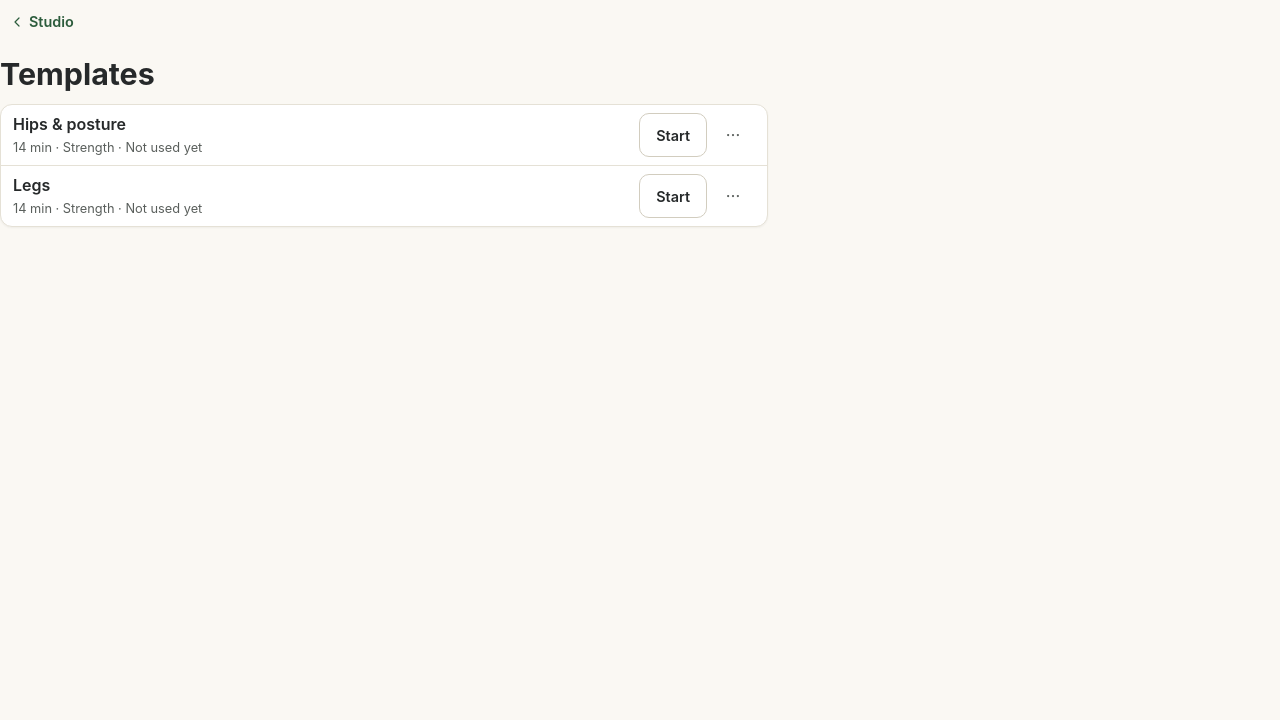
Rename, Pin and Delete › Delete asks first; Cancel keeps it; Delete deletes it, and focus stays on the page
Click the button named "Hips & posture: more": (733, 136) x1=711 y1=114 x2=755 y2=158
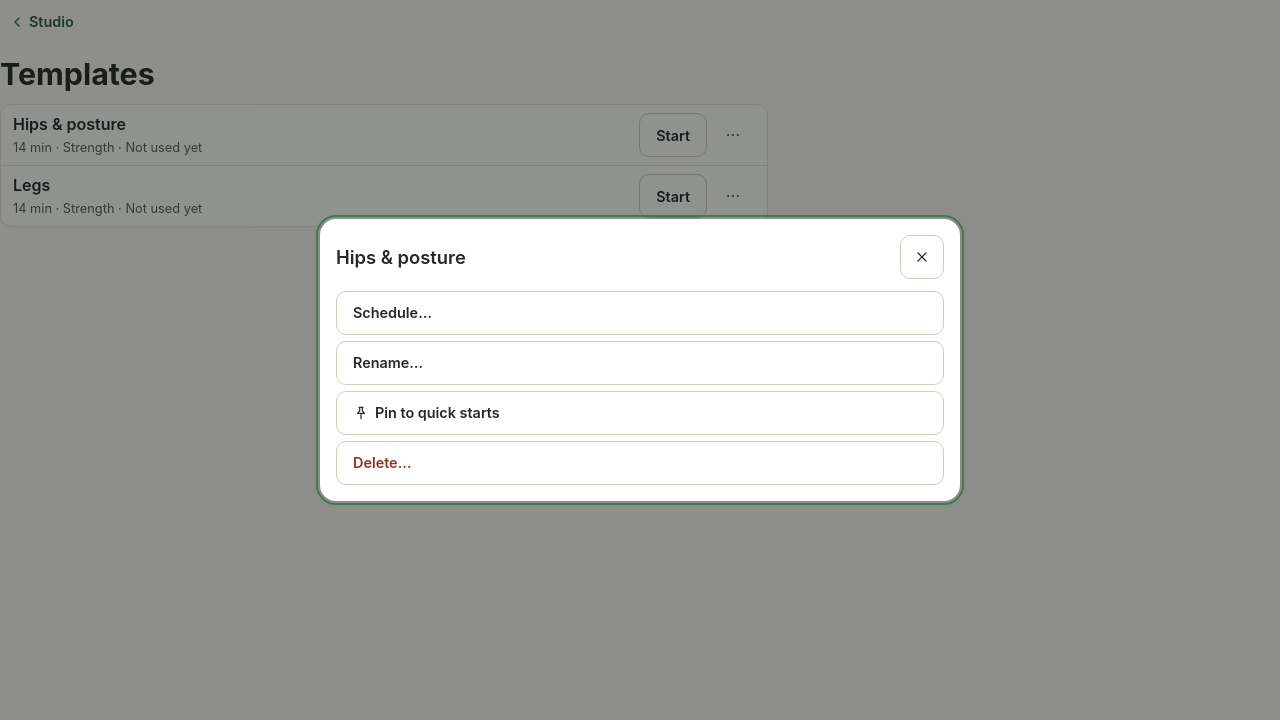
Click the button "Delete…": (382, 463) x1=336 y1=441 x2=944 y2=485
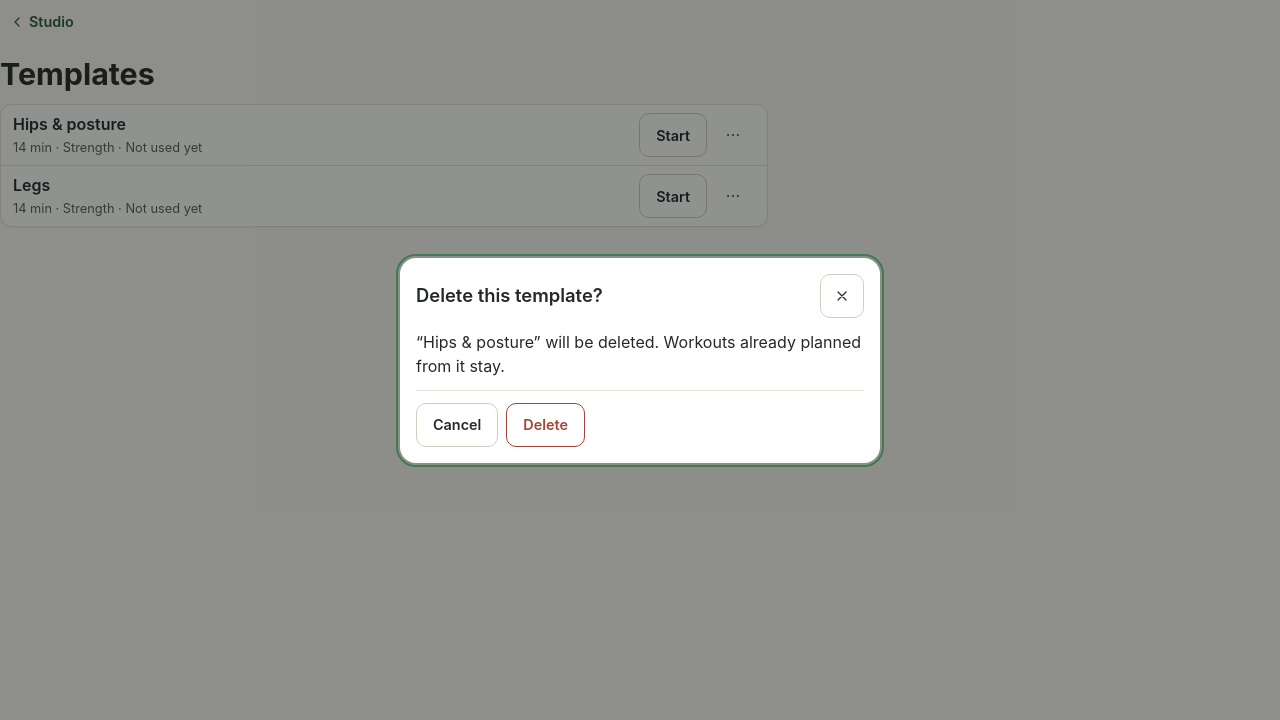
Check: the dialog shows "“Hips & posture” will be deleted.", box x1=416 y1=332 x2=861 y2=376
Click the button "Cancel": (457, 424) x1=416 y1=402 x2=498 y2=446
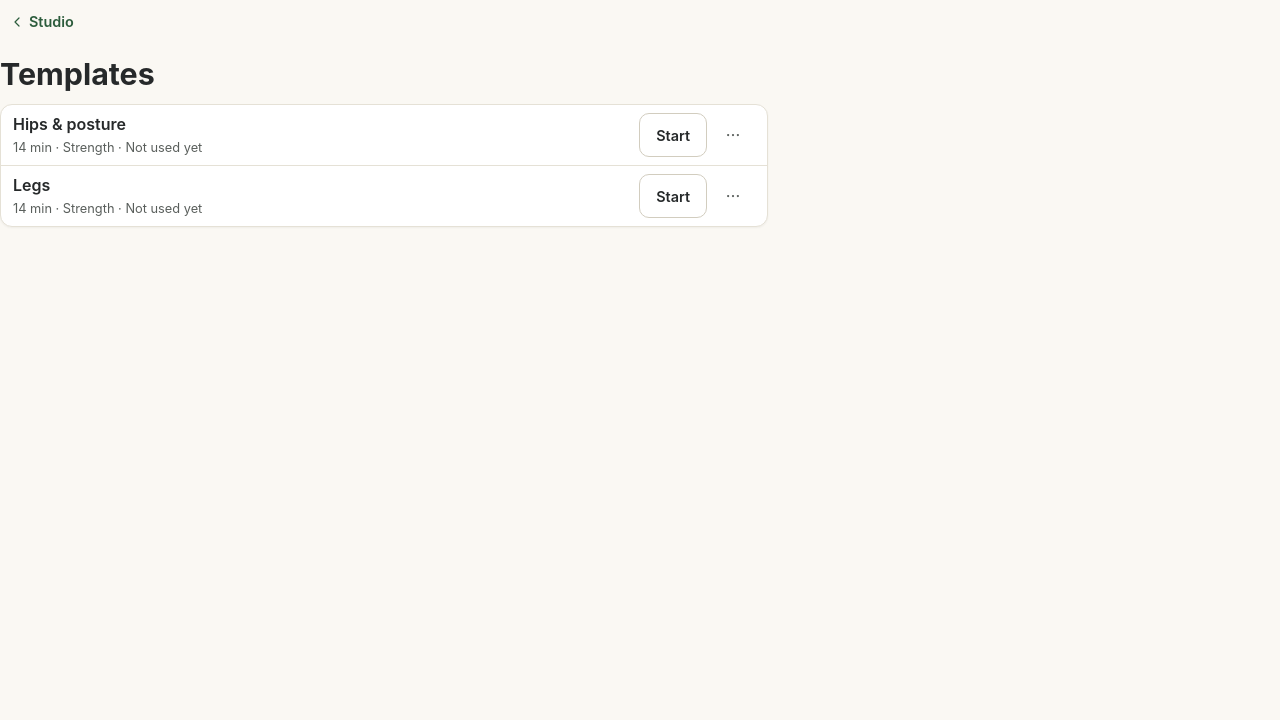
Check: the link "Hips & posture" is shown, box x1=13 y1=114 x2=126 y2=134
Click the button named "Hips & posture: more": (733, 136) x1=711 y1=114 x2=755 y2=158
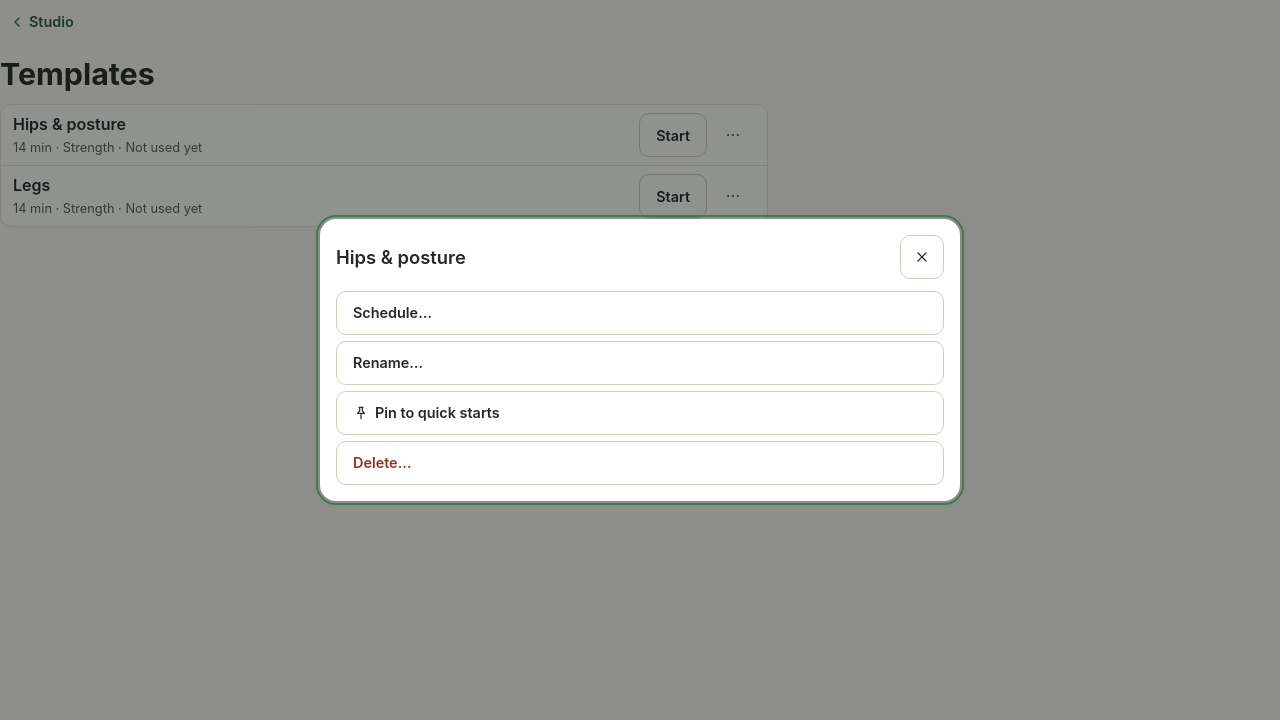
Click the button "Delete…": (382, 463) x1=336 y1=441 x2=944 y2=485
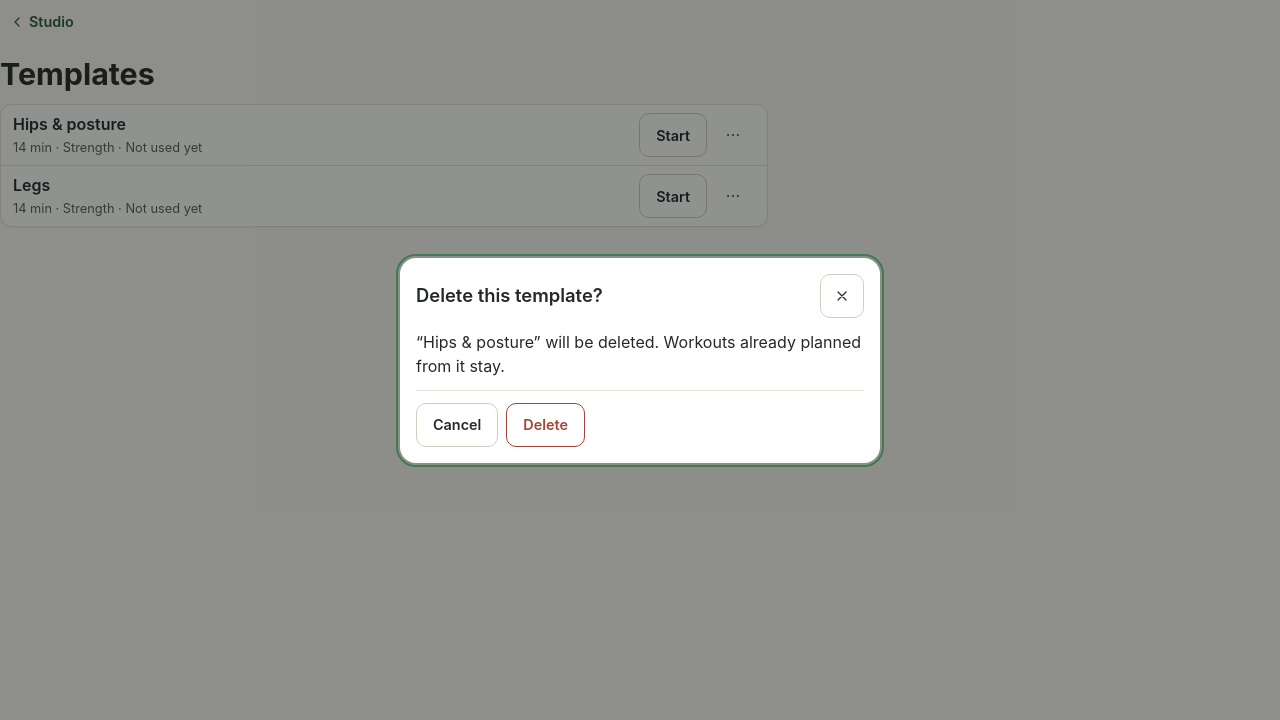
Click the button "Delete": (546, 424) x1=506 y1=402 x2=585 y2=446
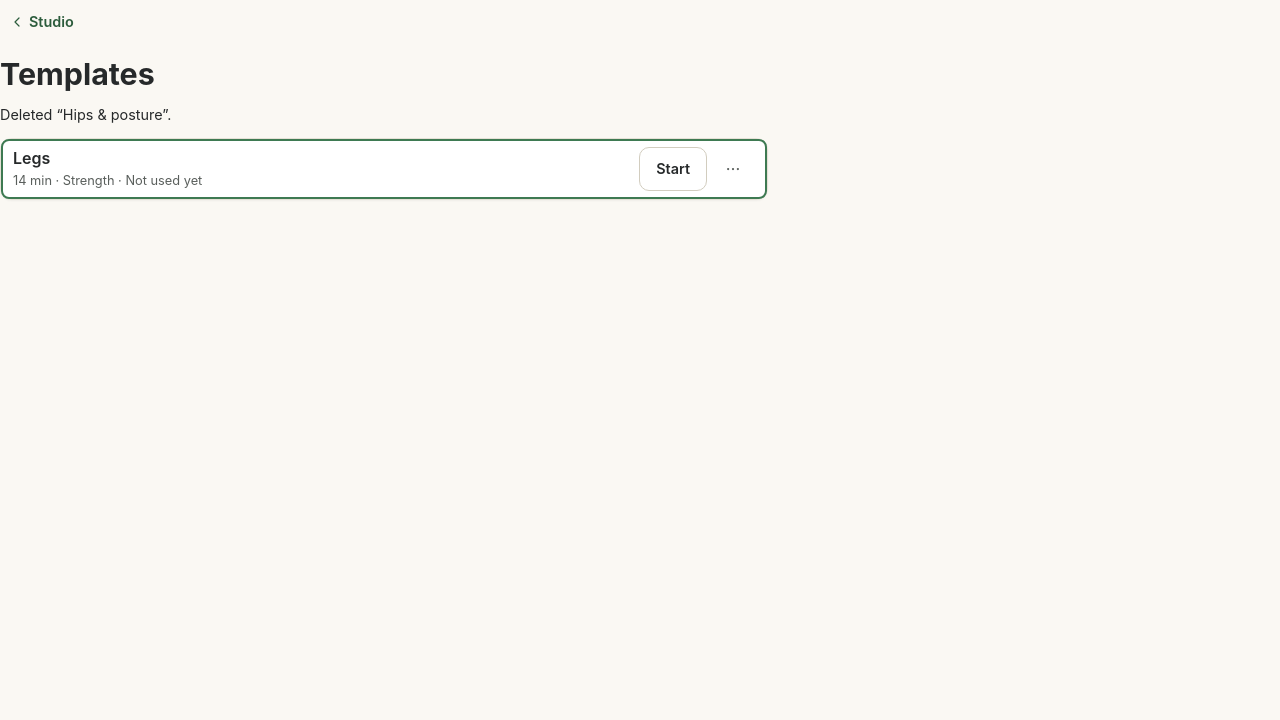
Check: the text "Deleted “Hips & posture”." is shown, box x1=0 y1=106 x2=171 y2=124
